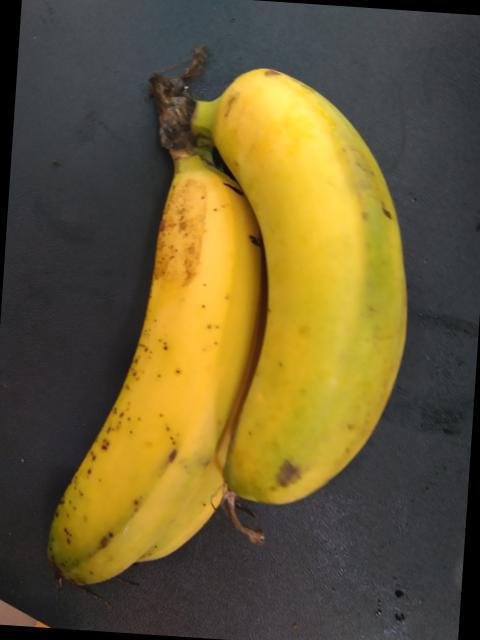freshripe: (228, 61, 420, 543)
ripe: (21, 150, 276, 612)
